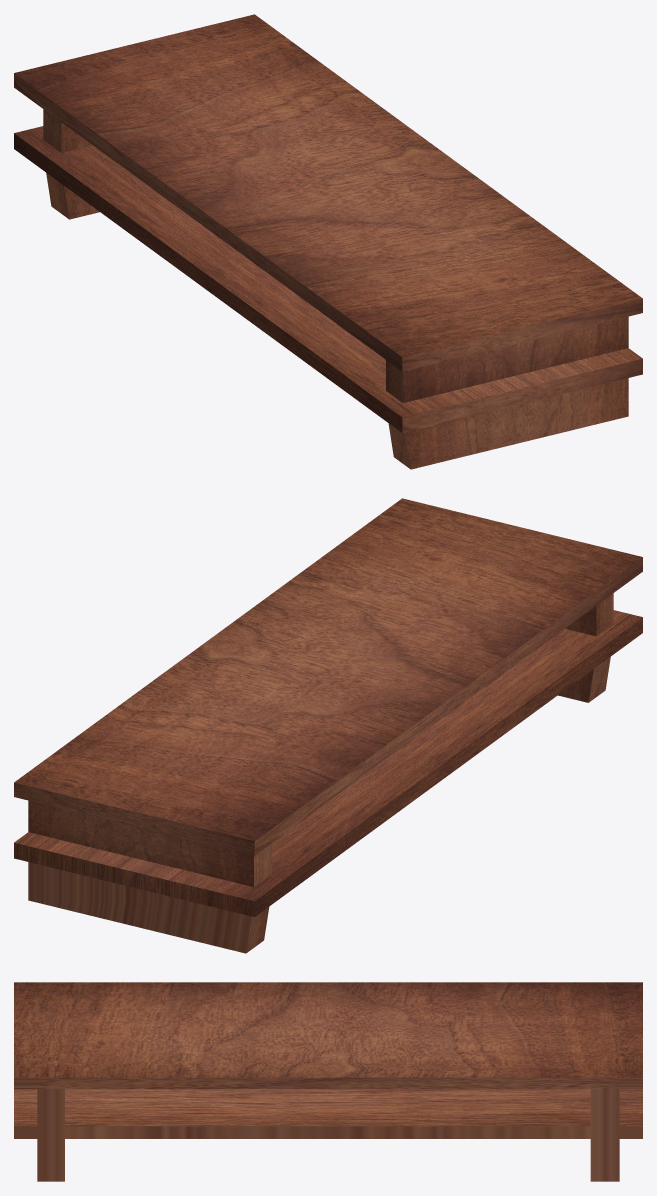
Rendered from Tv_Table.fbx.
The picture shows the model from 3 angles, top to bottom: view 1: azimuth 30°, elevation 25°; view 2: azimuth 150°, elevation 25°; view 3: azimuth 270°, elevation 25°; orthographic projection. The views are drawn at different scales.
Visible parts, largest first — view 1: Table_TV; view 2: Table_TV; view 3: Table_TV.
Part boxes in pixels (bbox=[...]): Table_TV: bbox=[14, 14, 642, 469]; Table_TV: bbox=[14, 498, 642, 953]; Table_TV: bbox=[14, 982, 642, 1181].
Size of the model in its own units: 155 by 78.88 by 432.
1 material, 1 textured.
